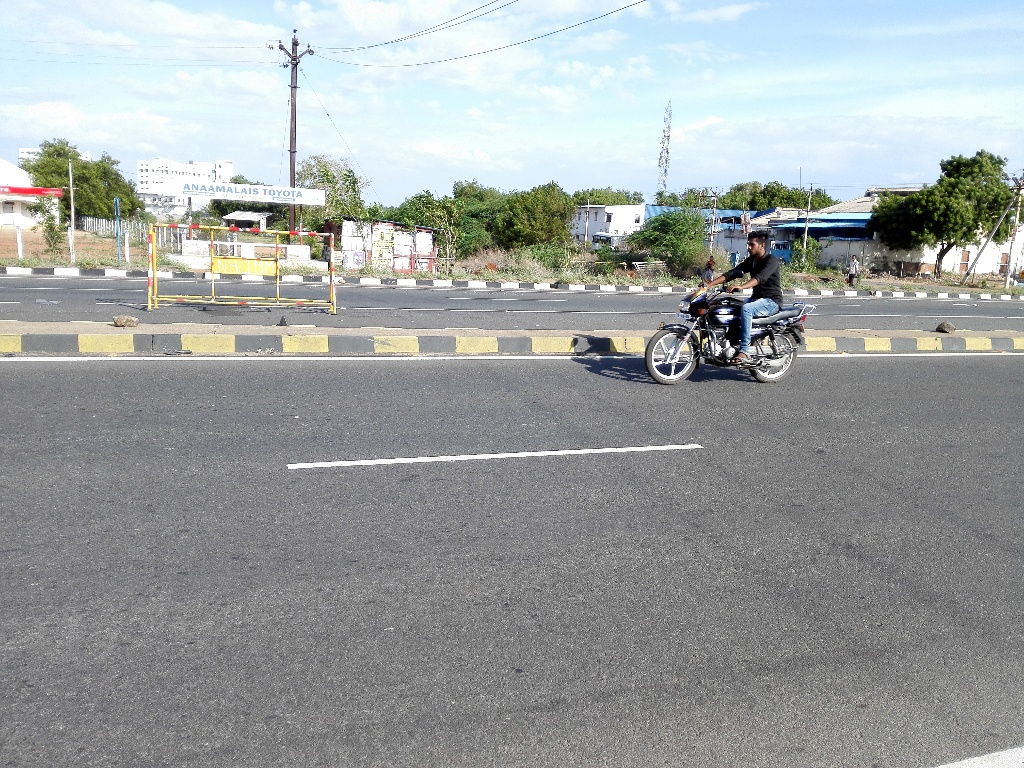biker: (633, 206, 827, 396)
nohelmet: (742, 228, 785, 273)
